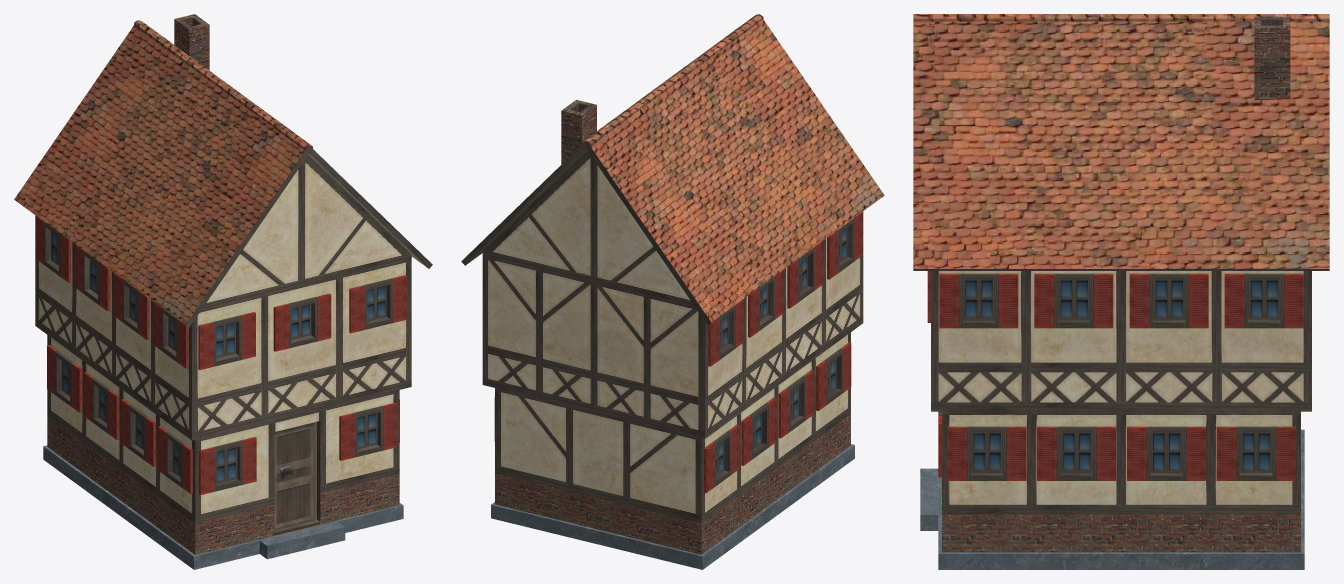
File: city_house_2.obj
The picture shows the model from 3 angles, left to right: view 1: azimuth 30°, elevation 25°; view 2: azimuth 150°, elevation 25°; view 3: azimuth 270°, elevation 25°; orthographic projection. The views are drawn at different scales.
Visible parts, largest first — view 1: houseD_mesh; view 2: houseD_mesh; view 3: houseD_mesh.
Part boxes in pixels (x1,y1,x2,y2): houseD_mesh: (14, 14, 432, 569); houseD_mesh: (461, 14, 884, 569); houseD_mesh: (913, 14, 1329, 569).
Size of the model in its own units: 8.5 by 13.6 by 10.2.
1 material, 1 textured.
